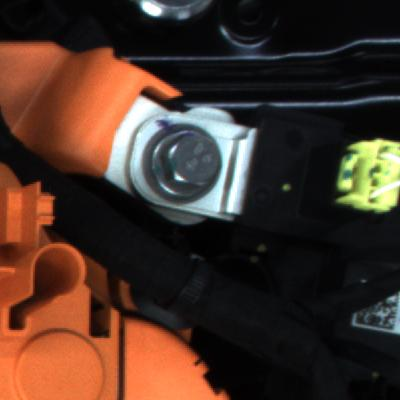nut_b: (142, 119, 235, 209)
